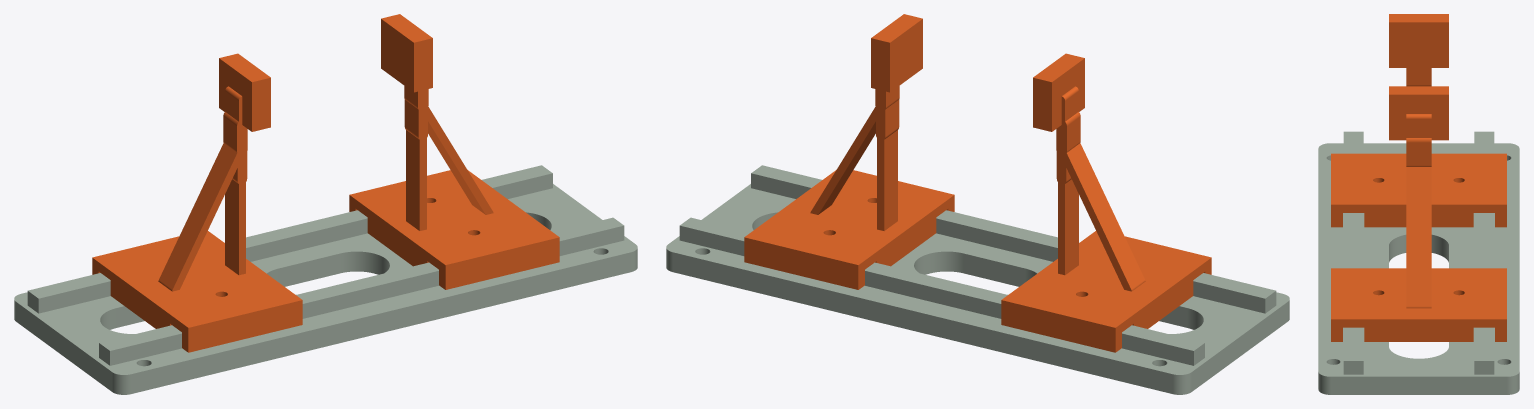
3 views of the same model, side by side, from view 1: azimuth 30°, elevation 25°; view 2: azimuth 150°, elevation 25°; view 3: azimuth 270°, elevation 25° (orthographic). The views are drawn at different scales.
Visible parts, largest first — view 1: base, left, right; view 2: base, left, right; view 3: base, right, left.
Part boxes in pixels (x1,y1,x2,y2): base: (14,165,637,394); left: (92,53,302,352); right: (349,14,559,289); base: (666,165,1289,394); left: (1001,53,1211,352); right: (744,14,954,289); base: (1318,131,1519,394); right: (1331,86,1506,341); left: (1331,14,1506,227).
Size of the model in its own units: 220 by 98.3 by 80.
